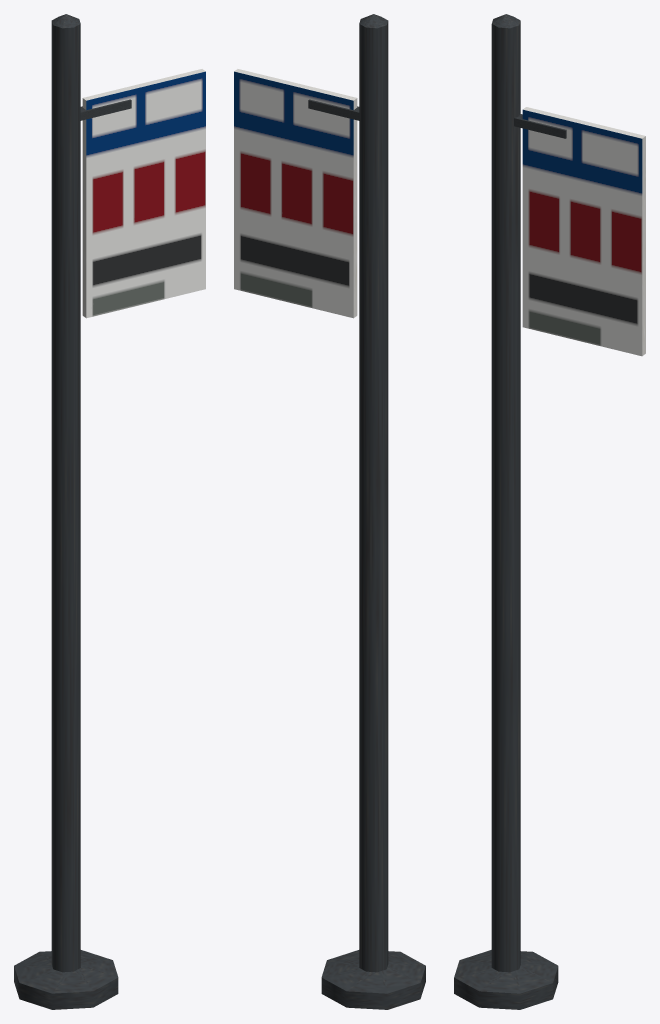
Rendered from mast_bus.glb.
3 views of the same model, side by side, from view 1: azimuth 30°, elevation 25°; view 2: azimuth 150°, elevation 25°; view 3: azimuth 330°, elevation 25° (orthographic).
Visible parts, largest first — view 1: mast_bus; view 2: mast_bus; view 3: mast_bus.
Part boxes in pixels (left/top/right/bottom): mast_bus: left=14, top=14, right=205, bottom=1009; mast_bus: left=234, top=14, right=425, bottom=1009; mast_bus: left=454, top=14, right=645, bottom=1009.
Size of the model in its own units: 0.71 by 3.58 by 0.36.
1 material, 1 textured.
